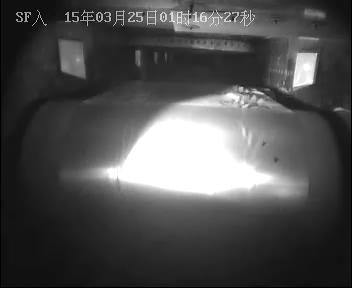wrinkled steel: (237, 120, 262, 199), (113, 121, 133, 202), (225, 84, 279, 111)
